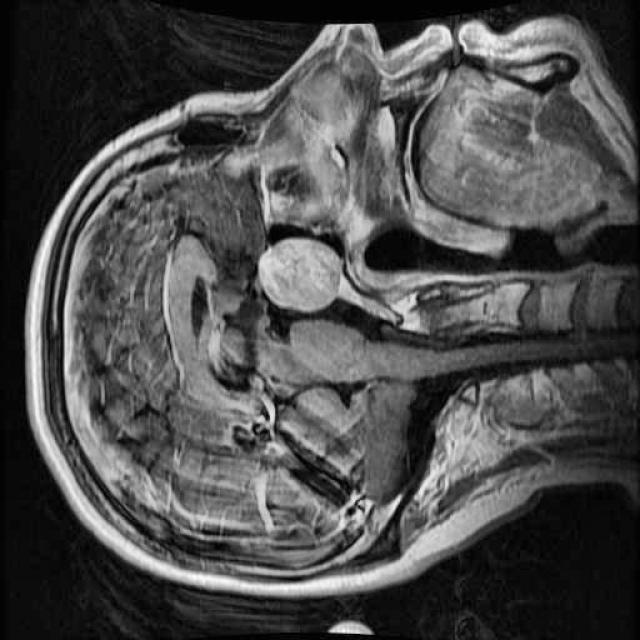Tumor: (248, 224, 350, 328)
